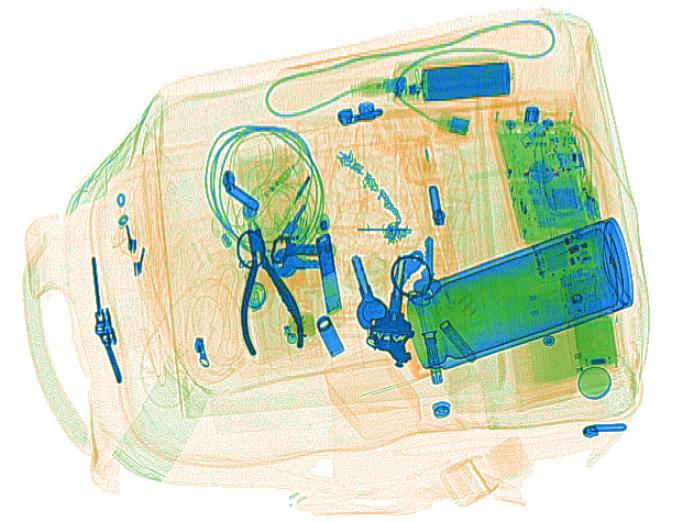battery: (420, 61, 512, 101)
